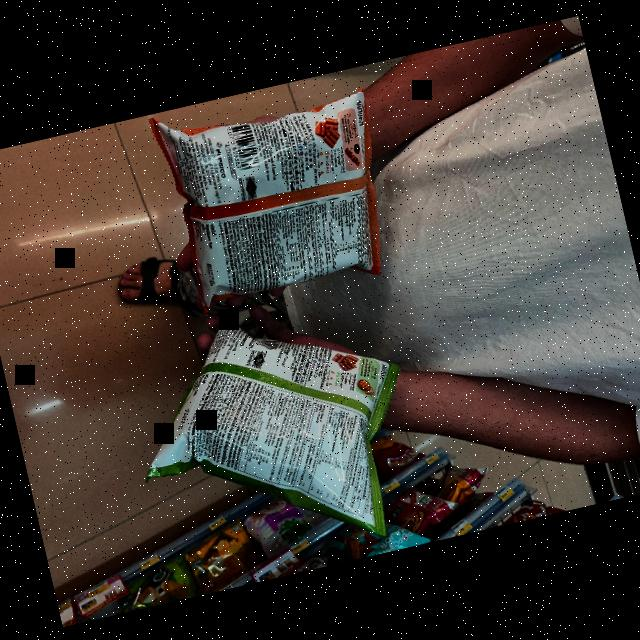snack_bag: (109, 279, 428, 590), (150, 74, 414, 325)
